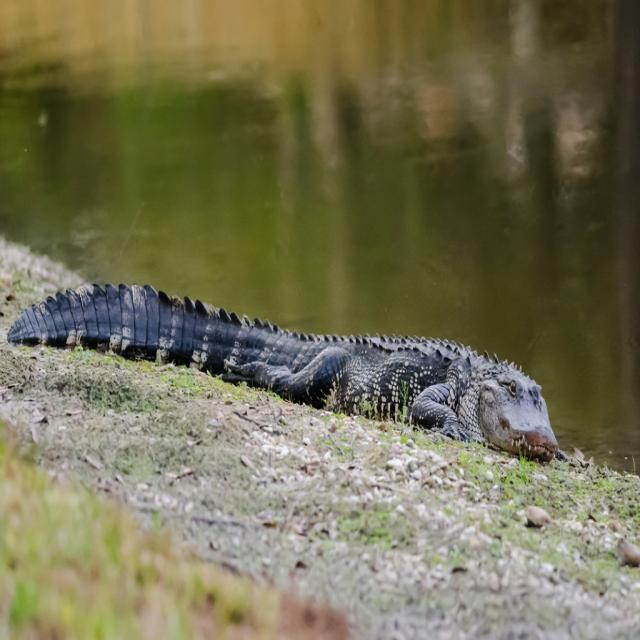crocodile: (0, 257, 582, 501)
